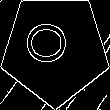O_E: (31, 28, 79, 70)
